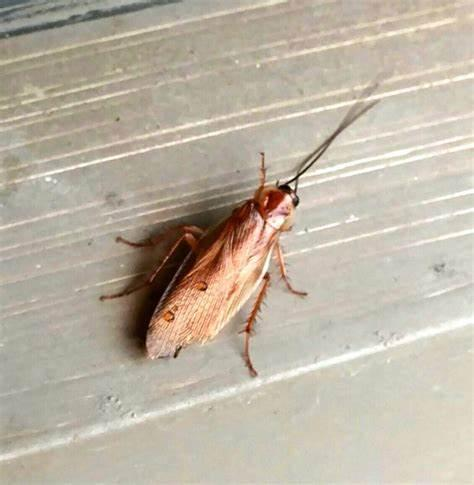cockroach: (140, 178, 302, 360)
